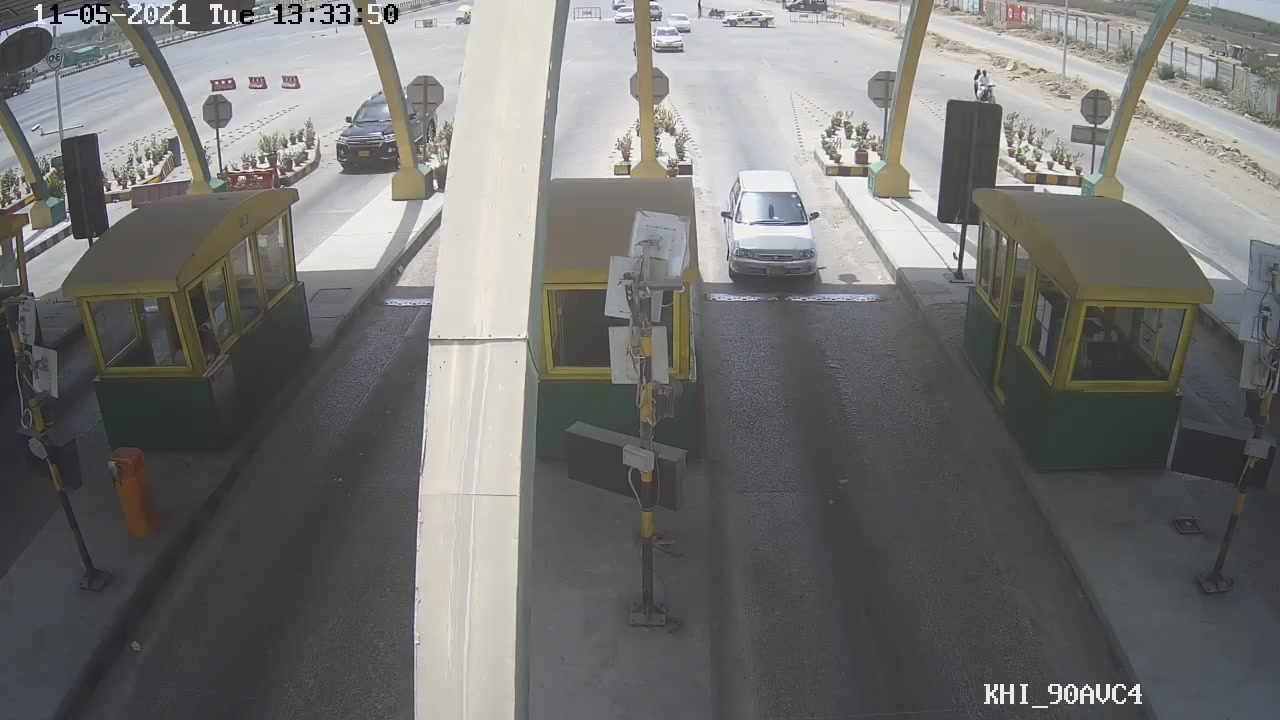F1: (712, 159, 824, 291)
